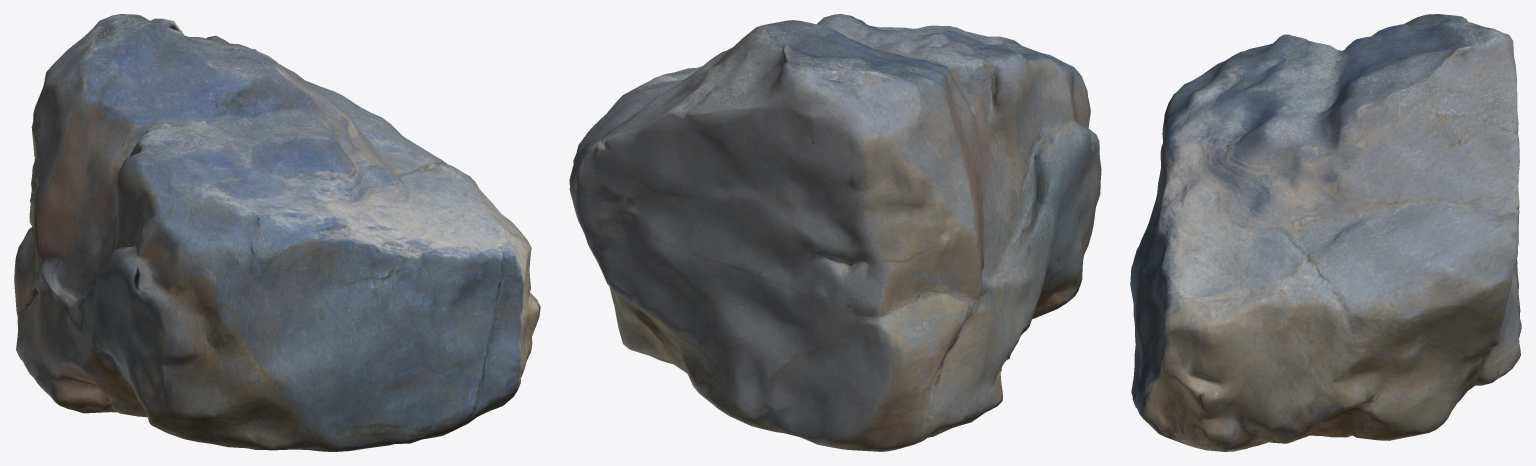
The model's file is rock1.glb.
The picture shows the model from 3 angles, left to right: view 1: azimuth 30°, elevation 25°; view 2: azimuth 150°, elevation 25°; view 3: azimuth 270°, elevation 25°; orthographic projection. The views are drawn at different scales.
Bounding box in the file's own units: 2 × 1.63 × 1.75.
Materials: 1 (1 with a texture image).
